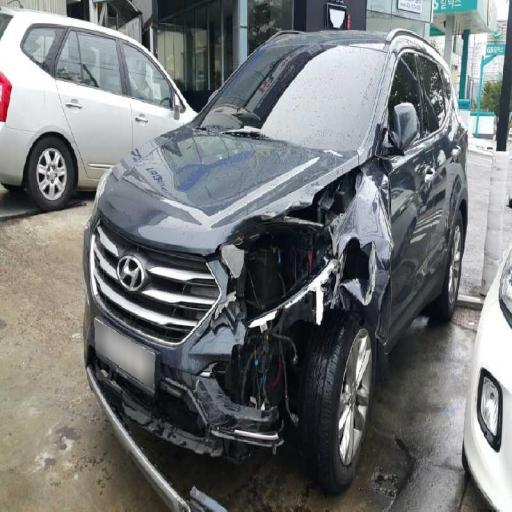broken: (83, 297, 250, 512), (214, 210, 356, 430)
dent: (362, 154, 480, 238)
scratch: (316, 157, 405, 288)
